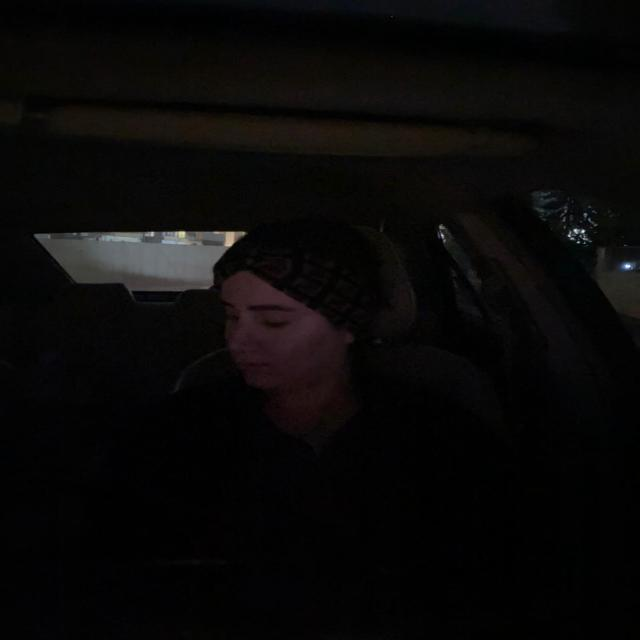drowsy: (204, 218, 398, 393)
